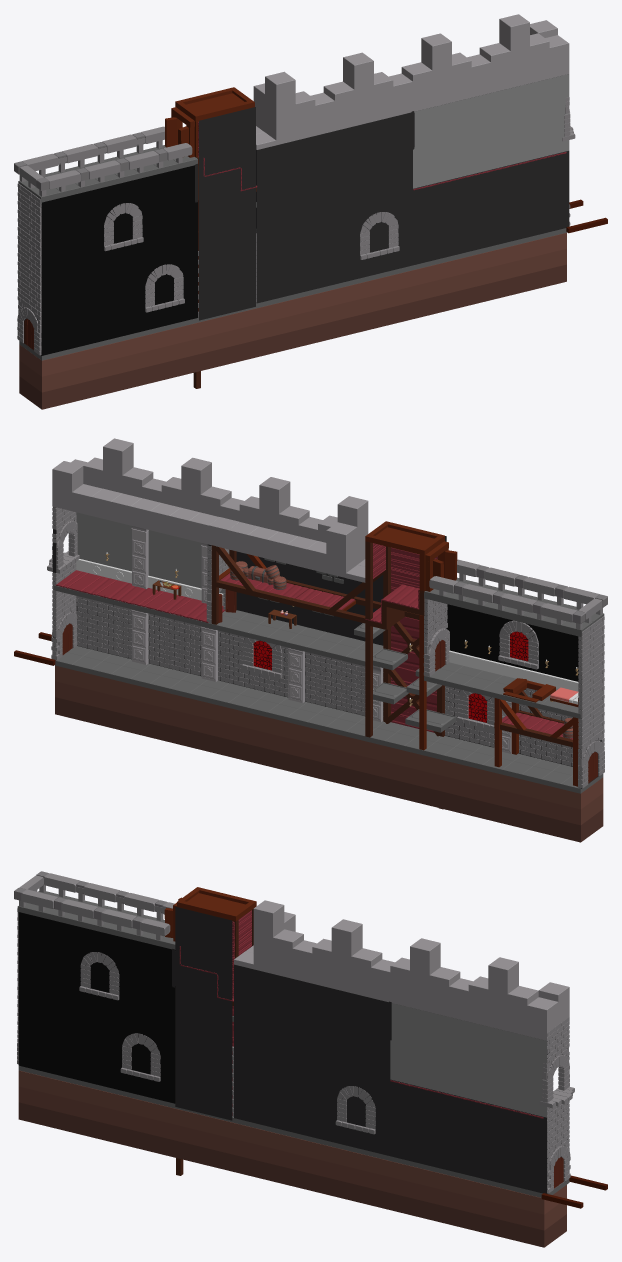
The model's file is CasteloSemLuz1.fbx.
The picture shows the model from 3 angles, top to bottom: view 1: azimuth 30°, elevation 25°; view 2: azimuth 150°, elevation 25°; view 3: azimuth 330°, elevation 25°; orthographic projection.
Parts seen in each view (by area): view 1: Cube.2159, Cube.2043, Cube.2004, Plane.093, Cube.1771, Cube.1936, Cube.140, Plane.120, Plane.122, Plane.124, Plane.129, Plane.123 (+15 smaller); view 2: Cube.1771, Cube.1936, Cube.2156, Cube.2159, Cube.2004, Cube.2043, Cube.2042, Cube.140, Cube.2009, Cube.2003, Cube.2001, Plane.130 (+38 smaller); view 3: Cube.2159, Cube.2043, Cube.2004, Plane.093, Cube.1771, Cube.1936, Cube.140, Plane.090, Plane.124, Plane.091, Plane.121, Plane.122 (+19 smaller).
Part boxes in pixels (left/top/right/bottom): Cube.2159: left=413, top=74, right=569, bottom=265; Cube.2043: left=256, top=112, right=412, bottom=303; Cube.2004: left=41, top=165, right=198, bottom=355; Plane.093: left=199, top=107, right=255, bottom=320; Cube.1771: left=401, top=14, right=569, bottom=111; Cube.1936: left=253, top=52, right=412, bottom=149; Cube.140: left=14, top=126, right=192, bottom=190; Plane.120: left=410, top=261, right=449, bottom=319; Plane.122: left=332, top=280, right=371, bottom=338; Plane.124: left=254, top=299, right=293, bottom=357; Plane.129: left=59, top=347, right=98, bottom=405; Plane.123: left=293, top=290, right=332, bottom=348; Cube.1771: left=52, top=438, right=231, bottom=544; Cube.1936: left=209, top=477, right=368, bottom=582; Cube.2156: left=76, top=596, right=233, bottom=683; Cube.2159: left=76, top=512, right=229, bottom=682; Cube.2004: left=445, top=604, right=578, bottom=766; Cube.2043: left=229, top=551, right=383, bottom=715; Cube.2042: left=229, top=633, right=383, bottom=719; Cube.140: left=429, top=559, right=607, bottom=623; Cube.2009: left=424, top=736, right=603, bottom=793; Cube.2003: left=445, top=686, right=604, bottom=769; Cube.2001: left=424, top=662, right=580, bottom=718; Plane.130: left=563, top=777, right=603, bottom=842; Cube.2159: left=390, top=1003, right=548, bottom=1193; Cube.2043: left=234, top=964, right=390, bottom=1155; Cube.2004: left=18, top=912, right=175, bottom=1103; Plane.093: left=175, top=906, right=232, bottom=1120; Cube.1771: left=390, top=938, right=569, bottom=1040; Cube.1936: left=234, top=900, right=394, bottom=1001; Cube.140: left=14, top=871, right=174, bottom=936; Plane.090: left=505, top=1185, right=566, bottom=1247; Plane.124: left=231, top=1122, right=270, bottom=1180; Plane.091: left=466, top=1179, right=505, bottom=1237; Plane.121: left=348, top=1151, right=387, bottom=1209; Plane.122: left=309, top=1141, right=348, bottom=1199.
Size of the model in its own units: 11606 by 5608 by 988.
35 materials, 1 textured.
